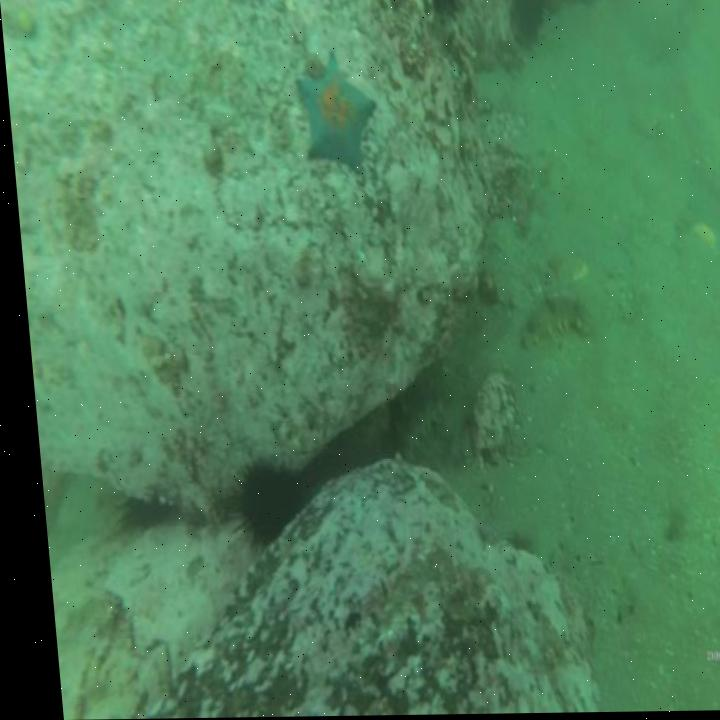echinus: (221, 457, 291, 544)
holothurian: (512, 292, 590, 348)
starfish: (290, 47, 381, 176)
